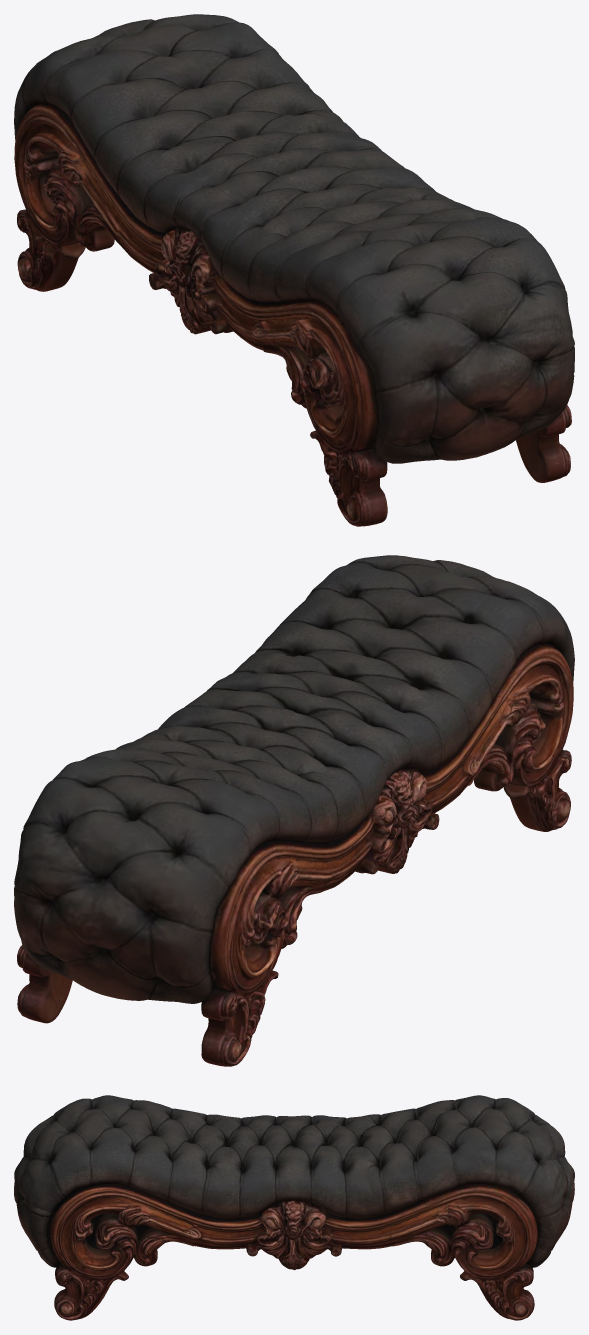
File: sofa.glb
3 views of the same model, one above another, from view 1: azimuth 30°, elevation 25°; view 2: azimuth 150°, elevation 25°; view 3: azimuth 270°, elevation 25° (orthographic). The views are drawn at different scales.
Parts seen in each view (by area): view 1: Object_4; view 2: Object_4; view 3: Object_4.
Boxes of the visible parts, bbox=[...] form: Object_4: bbox=[14, 14, 574, 526]; Object_4: bbox=[14, 555, 574, 1066]; Object_4: bbox=[14, 1095, 574, 1320].
Bounding box in the file's own units: 0.3338 × 0.3337 × 1.
Materials: 1 (1 with a texture image).
